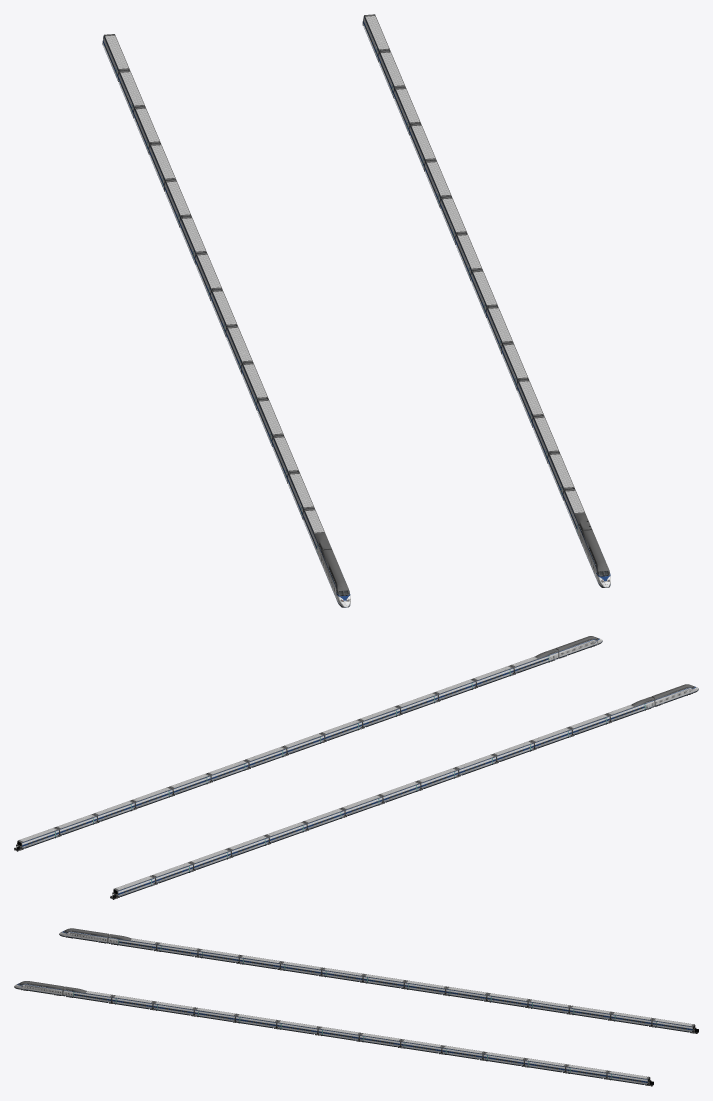
Rendered from OfficialBusanStation_SiteTrains.fbx.
3 renders of one model, top to bottom at view 1: azimuth 30°, elevation 25°; view 2: azimuth 150°, elevation 25°; view 3: azimuth 270°, elevation 25°, orthographic. The views are drawn at different scales.
Parts seen in each view (by area): view 1: OfficialStation_-기차_1, OfficialStation_-기차_3, OfficialStation_-기차_4, OfficialStation_-기차_0, OfficialStation_-기차_2, OfficialStation_-기차_5; view 2: OfficialStation_-기차_1, OfficialStation_-기차_0, OfficialStation_-기차_2, OfficialStation_-기차_3, OfficialStation_-기차_4, OfficialStation_-기차_5; view 3: OfficialStation_-기차_1, OfficialStation_-기차_4, OfficialStation_-기차_3, OfficialStation_-기차_2, OfficialStation_-기차_0, OfficialStation_-기차_5.
Boxes of the visible parts, x1,y1,x2,y2 form: OfficialStation_-기차_1: (400, 87, 507, 352); OfficialStation_-기차_3: (102, 34, 350, 607); OfficialStation_-기차_4: (148, 143, 253, 372); OfficialStation_-기차_0: (362, 14, 610, 587); OfficialStation_-기차_2: (302, 306, 574, 562); OfficialStation_-기차_5: (241, 362, 314, 518); OfficialStation_-기차_1: (93, 720, 362, 824); OfficialStation_-기차_0: (14, 636, 602, 851); OfficialStation_-기차_2: (320, 665, 654, 743); OfficialStation_-기차_3: (110, 684, 698, 899); OfficialStation_-기차_4: (227, 768, 458, 859); OfficialStation_-기차_5: (454, 714, 609, 778); OfficialStation_-기차_1: (278, 1020, 569, 1073); OfficialStation_-기차_4: (321, 967, 573, 1014); OfficialStation_-기차_3: (59, 928, 698, 1033); OfficialStation_-기차_2: (109, 934, 321, 1035); OfficialStation_-기차_0: (14, 981, 653, 1086); OfficialStation_-기차_5: (156, 942, 367, 983).
Bounding box in the file's own units: 15247 × 407 × 29028.
33 materials, 16 textured.
